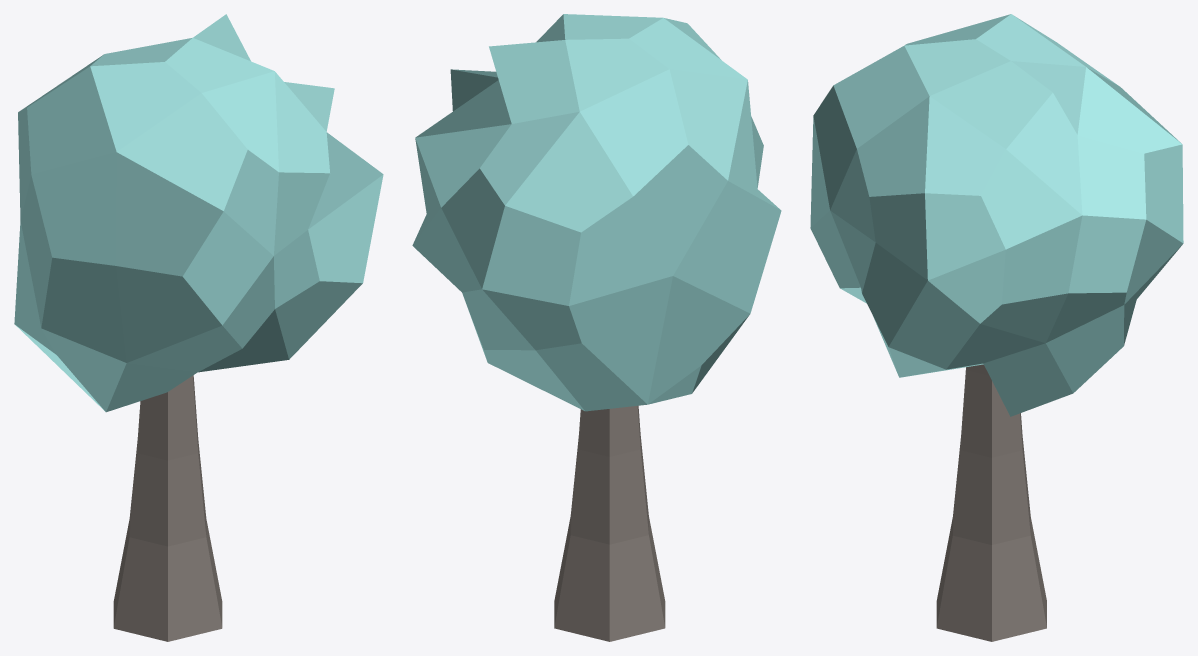
The model's file is tree2.fbx.
3 views of the same model, side by side, from view 1: azimuth 30°, elevation 25°; view 2: azimuth 150°, elevation 25°; view 3: azimuth 270°, elevation 25° (orthographic).
Parts seen in each view (by area): view 1: leaf, tunk; view 2: leaf, tunk; view 3: leaf, tunk.
Part boxes in pixels (left/top/right/bottom): leaf: left=14, top=14, right=383, bottom=412; tunk: left=113, top=375, right=222, bottom=641; leaf: left=412, top=14, right=781, bottom=411; tunk: left=554, top=405, right=665, bottom=641; leaf: left=810, top=14, right=1183, bottom=416; tunk: left=936, top=364, right=1046, bottom=641.
Bounding box in the file's own units: 0.037 × 0.0609 × 0.036.
